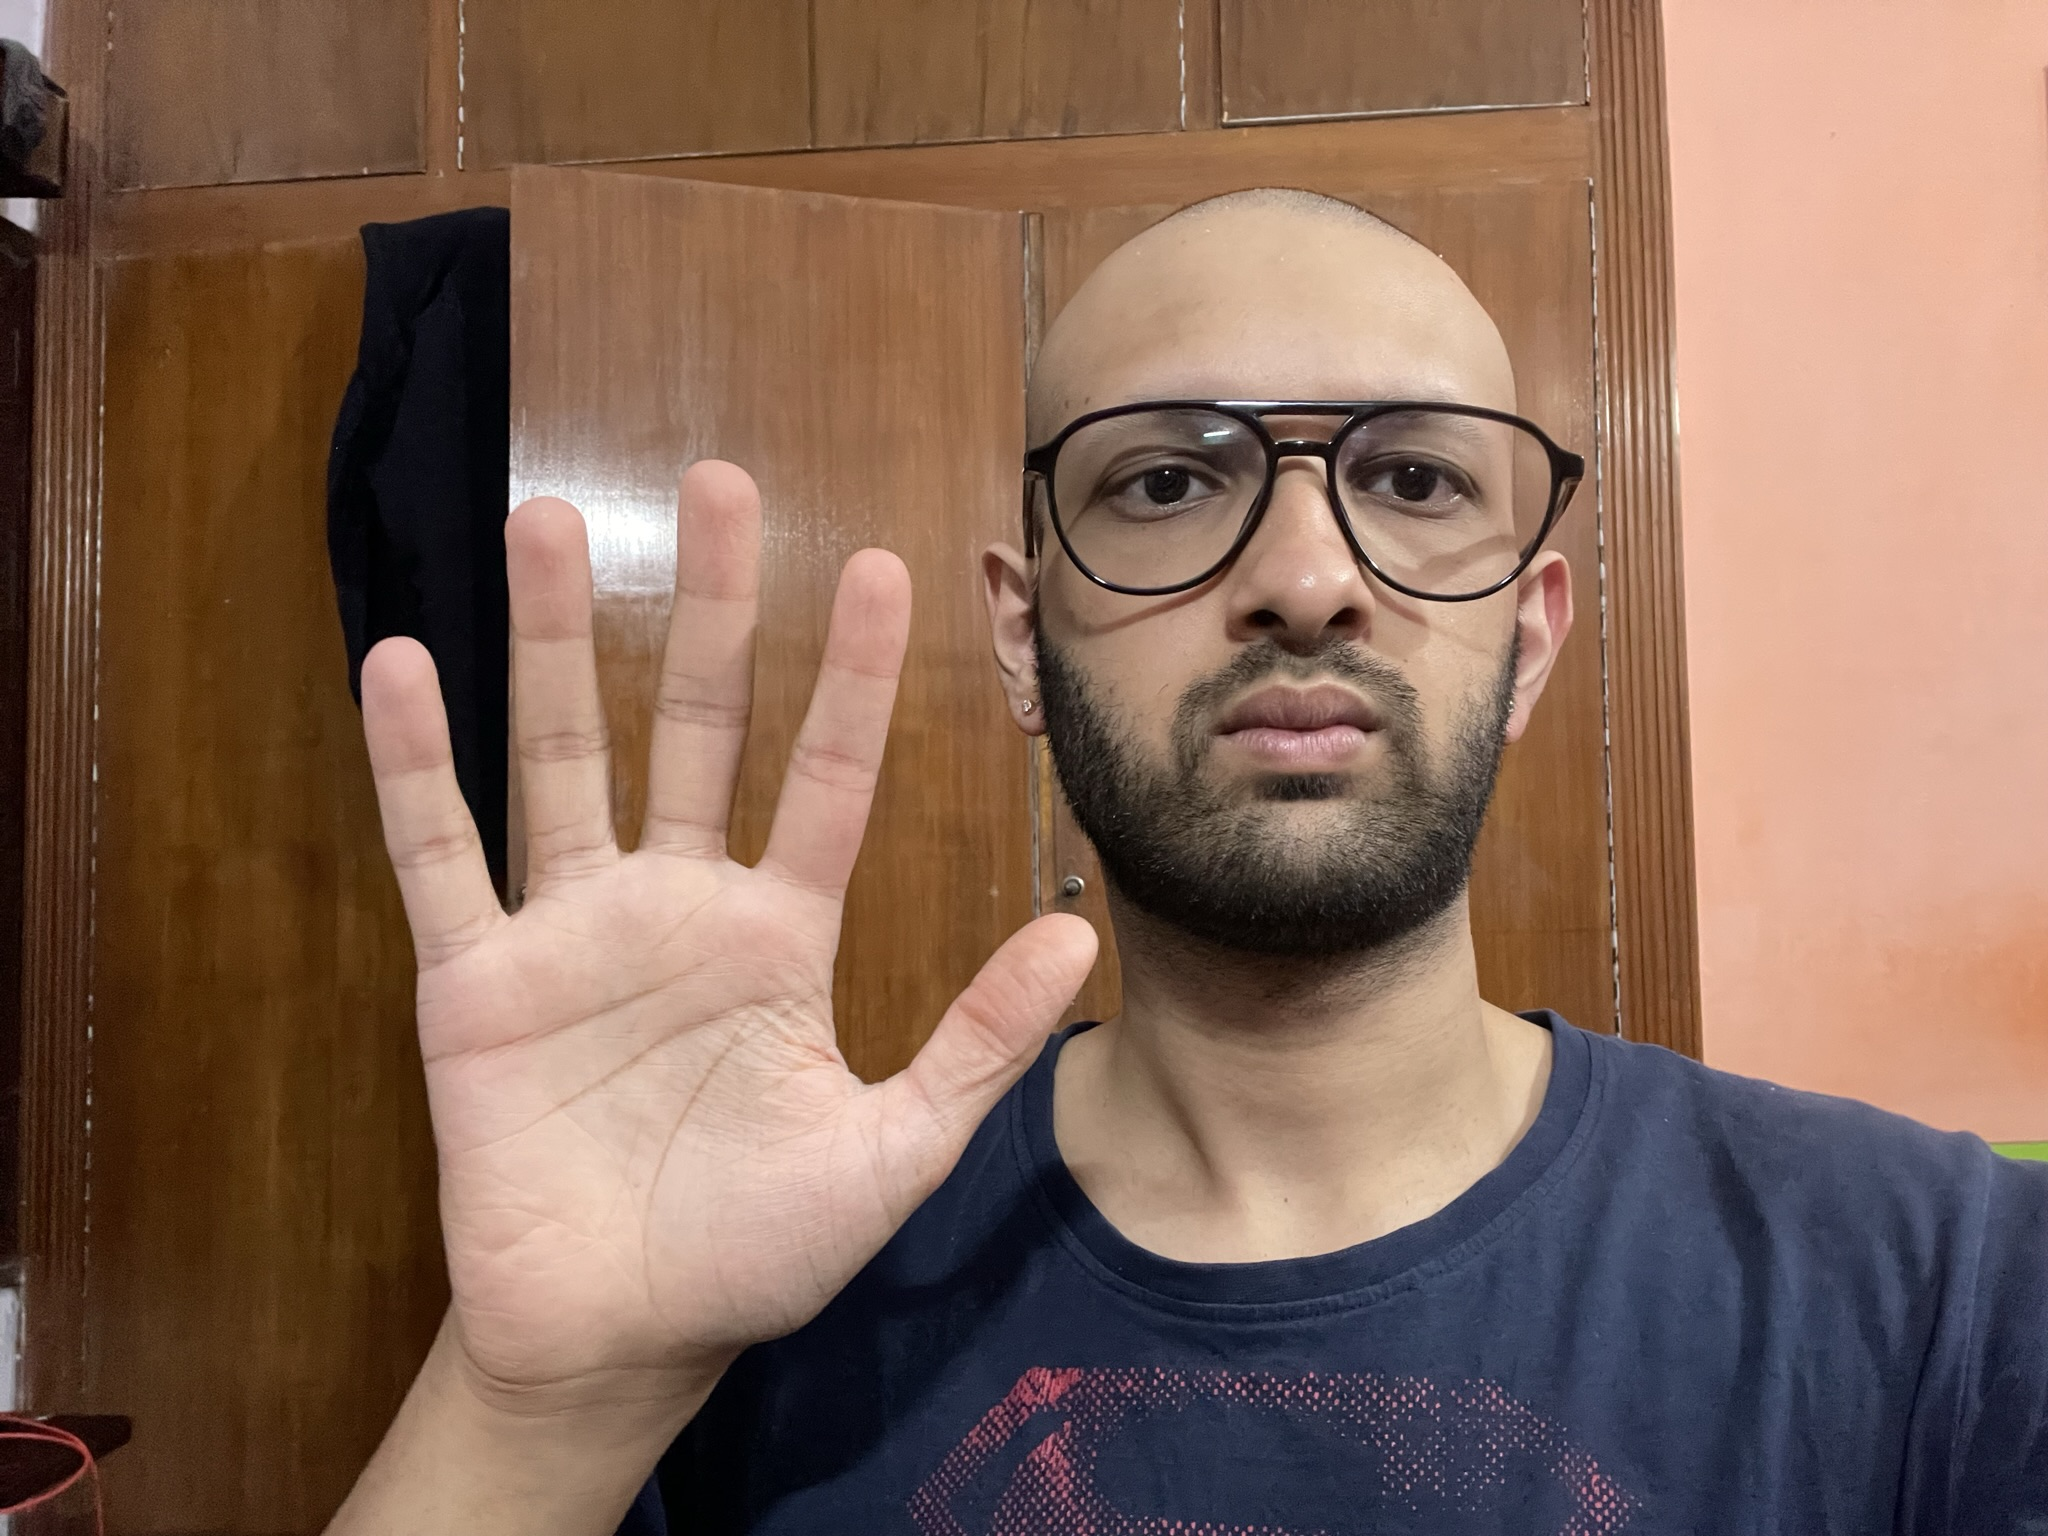Hello: (347, 458, 1105, 1363)
